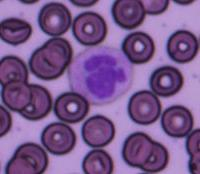N: (67, 44, 134, 106)
